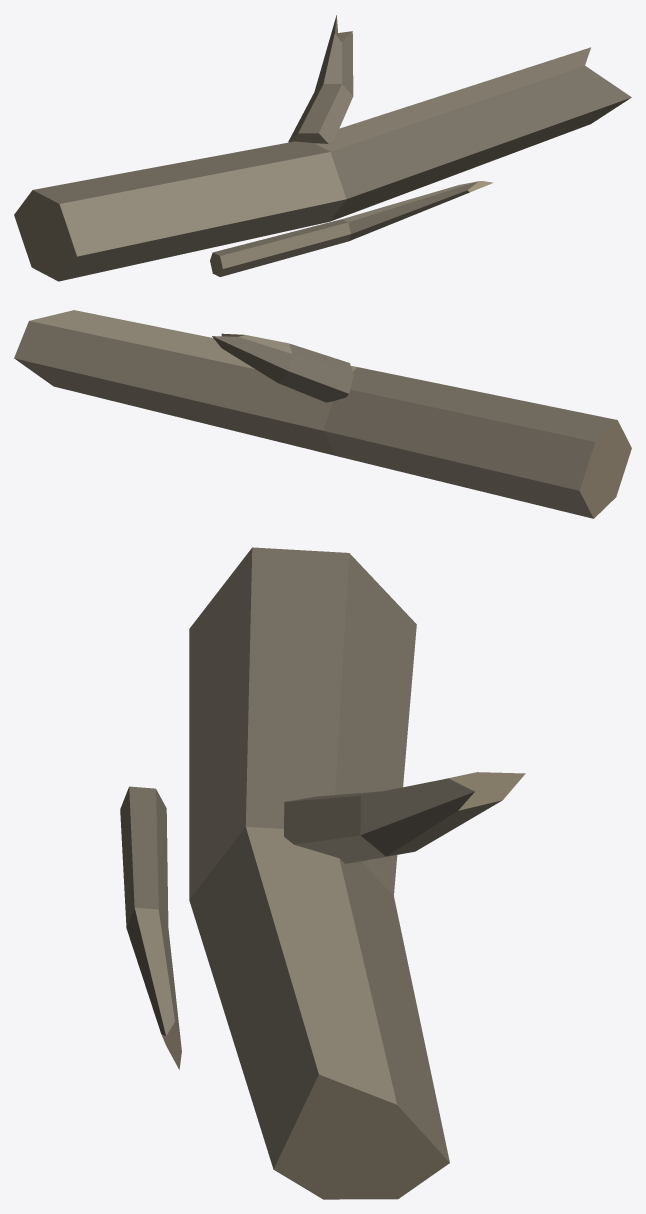
File: ground-prop-split-log-lite.glb
3 views of the same model, one above another, from view 1: azimuth 30°, elevation 25°; view 2: azimuth 150°, elevation 25°; view 3: azimuth 270°, elevation 25° (orthographic). The views are drawn at different scales.
Parts seen in each view (by area): view 1: ground-prop-split-log-lite / surface; view 2: ground-prop-split-log-lite / surface; view 3: ground-prop-split-log-lite / surface.
Boxes of the visible parts, x1,y1,x2,y2 form: ground-prop-split-log-lite / surface: [14, 15, 631, 281]; ground-prop-split-log-lite / surface: [14, 310, 631, 518]; ground-prop-split-log-lite / surface: [120, 547, 525, 1199].
Size of the model in its own units: 2.28 by 0.5248 by 0.7112.
